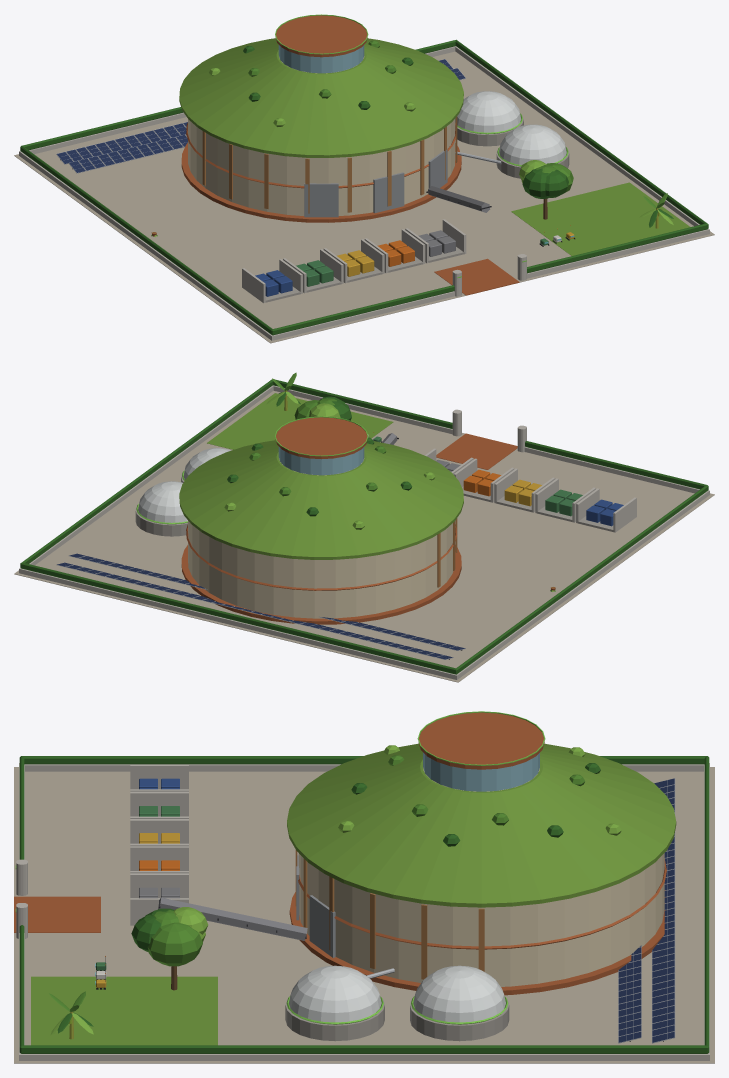
The model's file is waste.glb.
3 renders of one model, top to bottom at view 1: azimuth 30°, elevation 25°; view 2: azimuth 150°, elevation 25°; view 3: azimuth 270°, elevation 25°, orthographic. The views are drawn at different scales.
Parts seen in each view (by area): view 1: body, windows; view 2: body; view 3: body, windows.
Part boxes in pixels (x1,y1,x2,y2): body: (14, 15, 714, 343); windows: (275, 14, 574, 278); body: (14, 372, 714, 682); body: (14, 712, 714, 1063); windows: (15, 711, 545, 1024).
Bounding box in the file's own units: 47.9 × 13.68 × 47.9.
